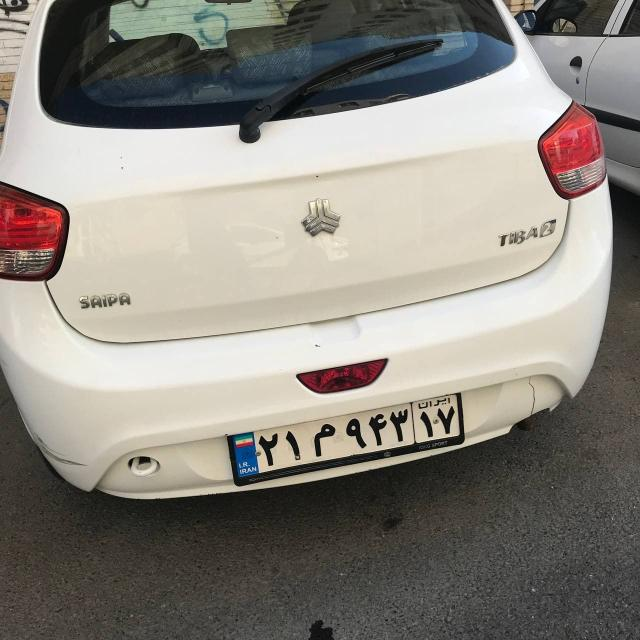Plates: (231, 393, 465, 477)
